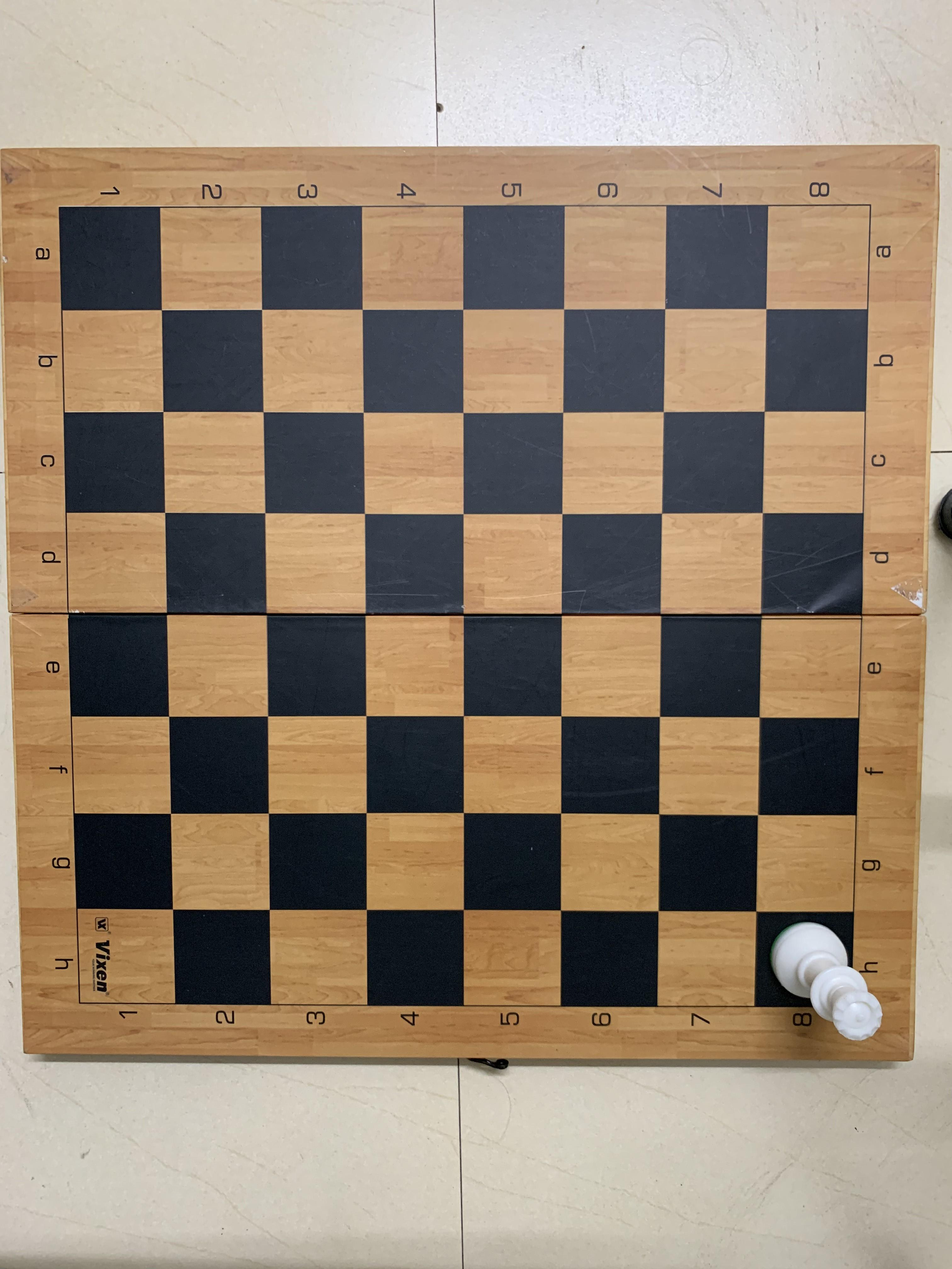white_queen: (757, 912, 895, 1044)
